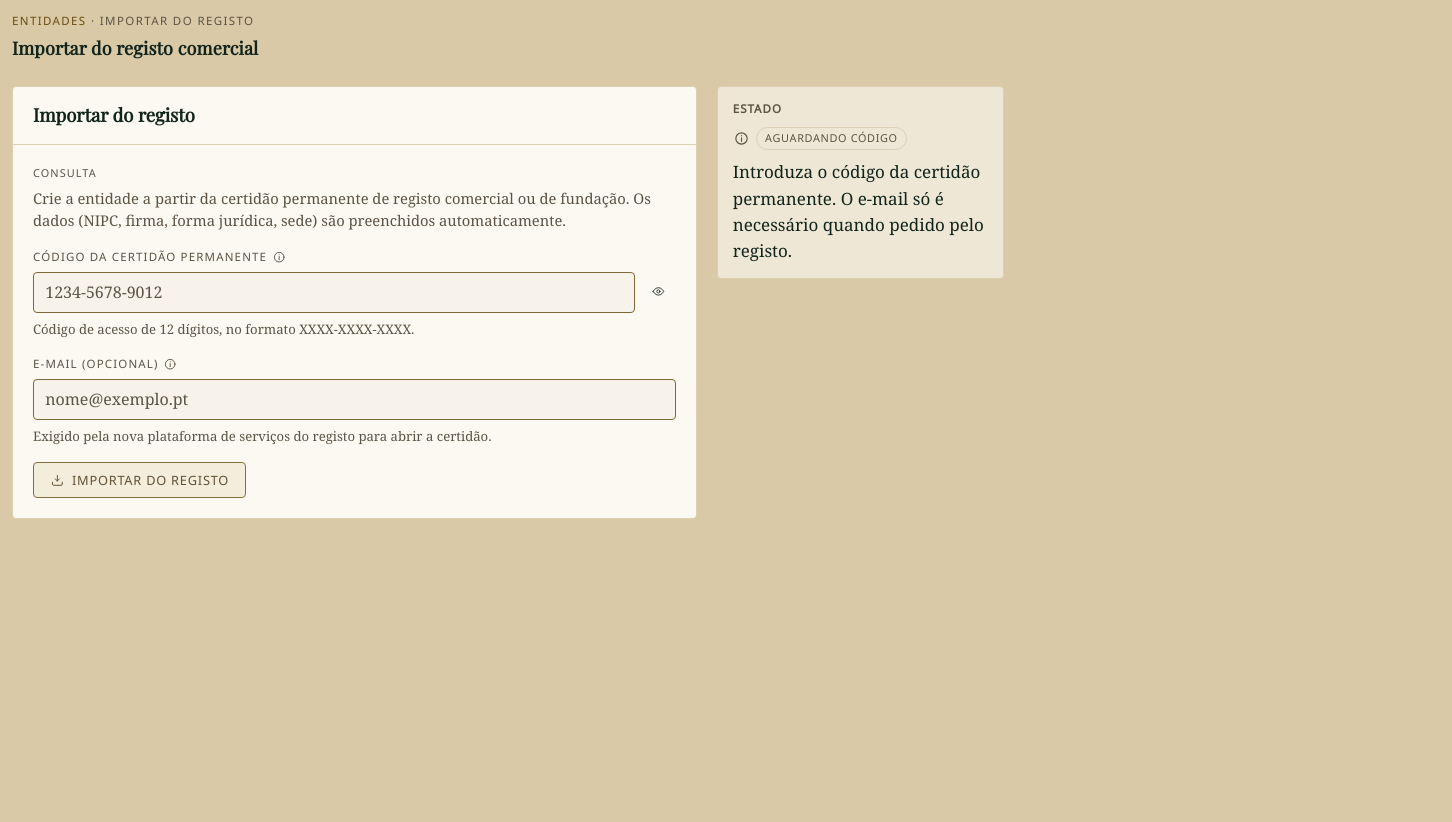
Scenario: ImportEntityPage › imports on a valid código, toasts and navigates to the new entity
Type "1234-5678-9012" into the password field labelled "Código da certidão permanente". click: (334, 292)
box: [33,272,635,313]
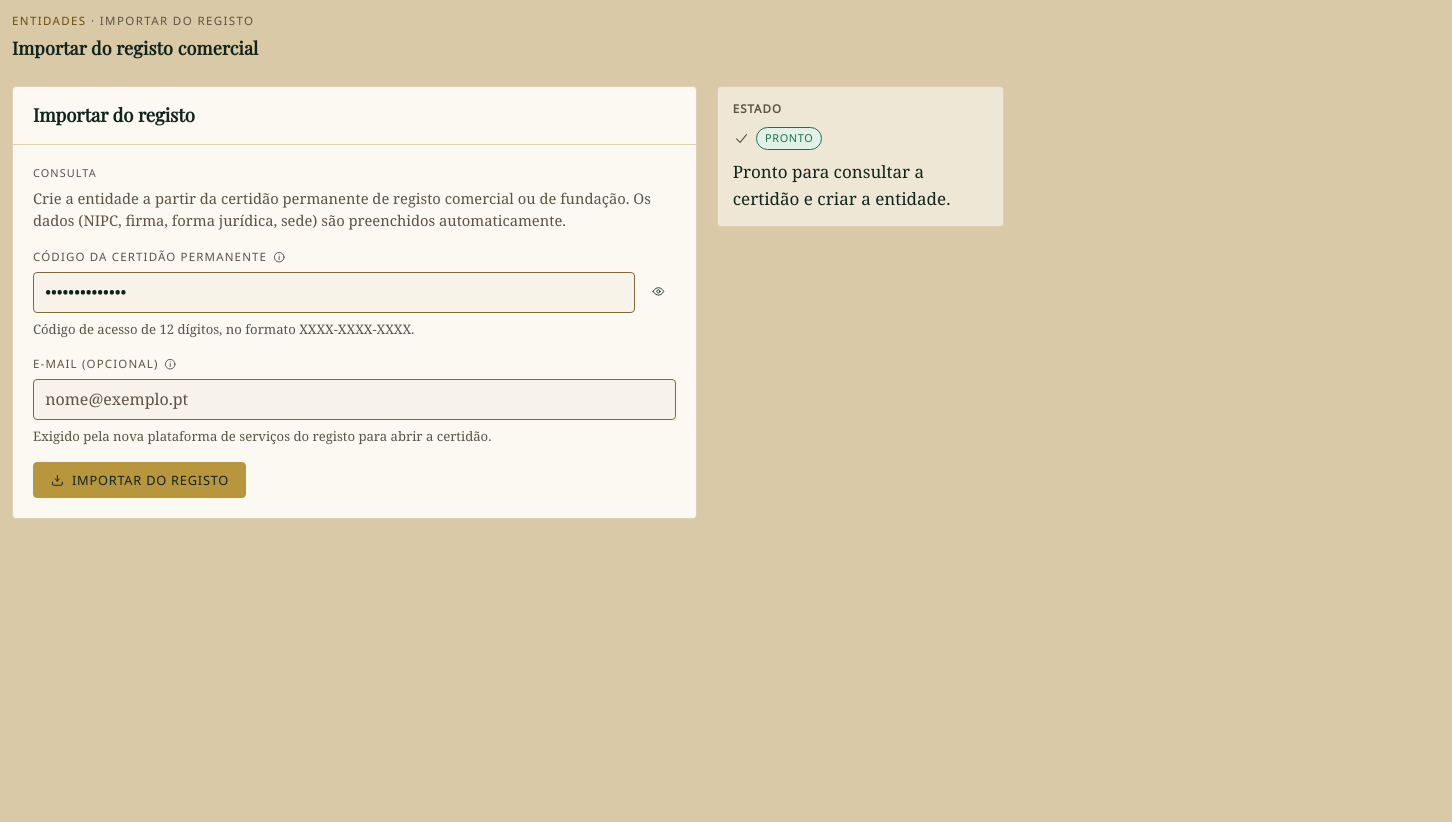
Type "amelia.marques@example.pt" into the field labelled "E-mail (opcional)". click: (354, 399)
box: [33,379,676,420]
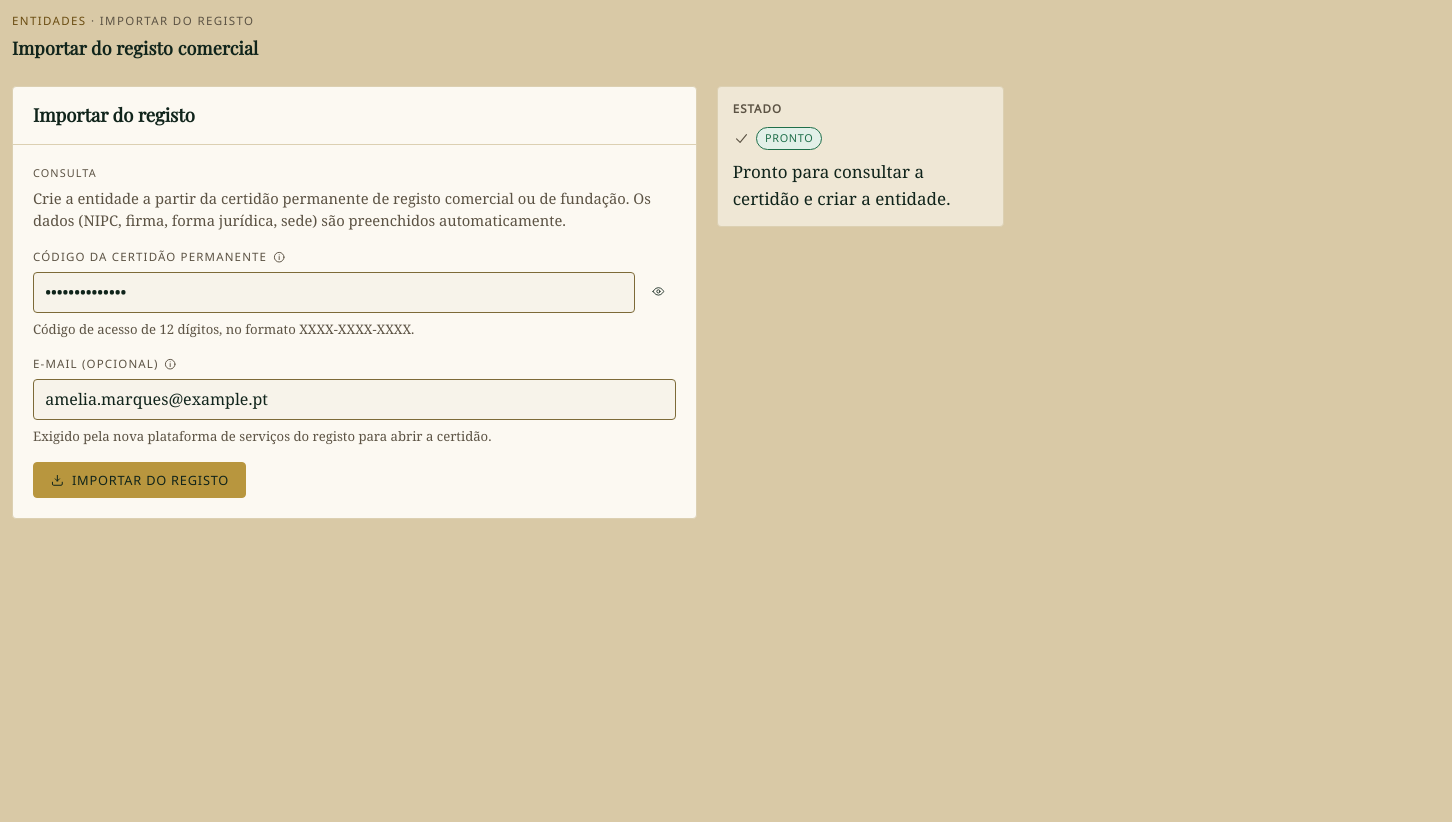
Click the button "Importar do registo". click: (140, 480)
box: [33,462,246,498]
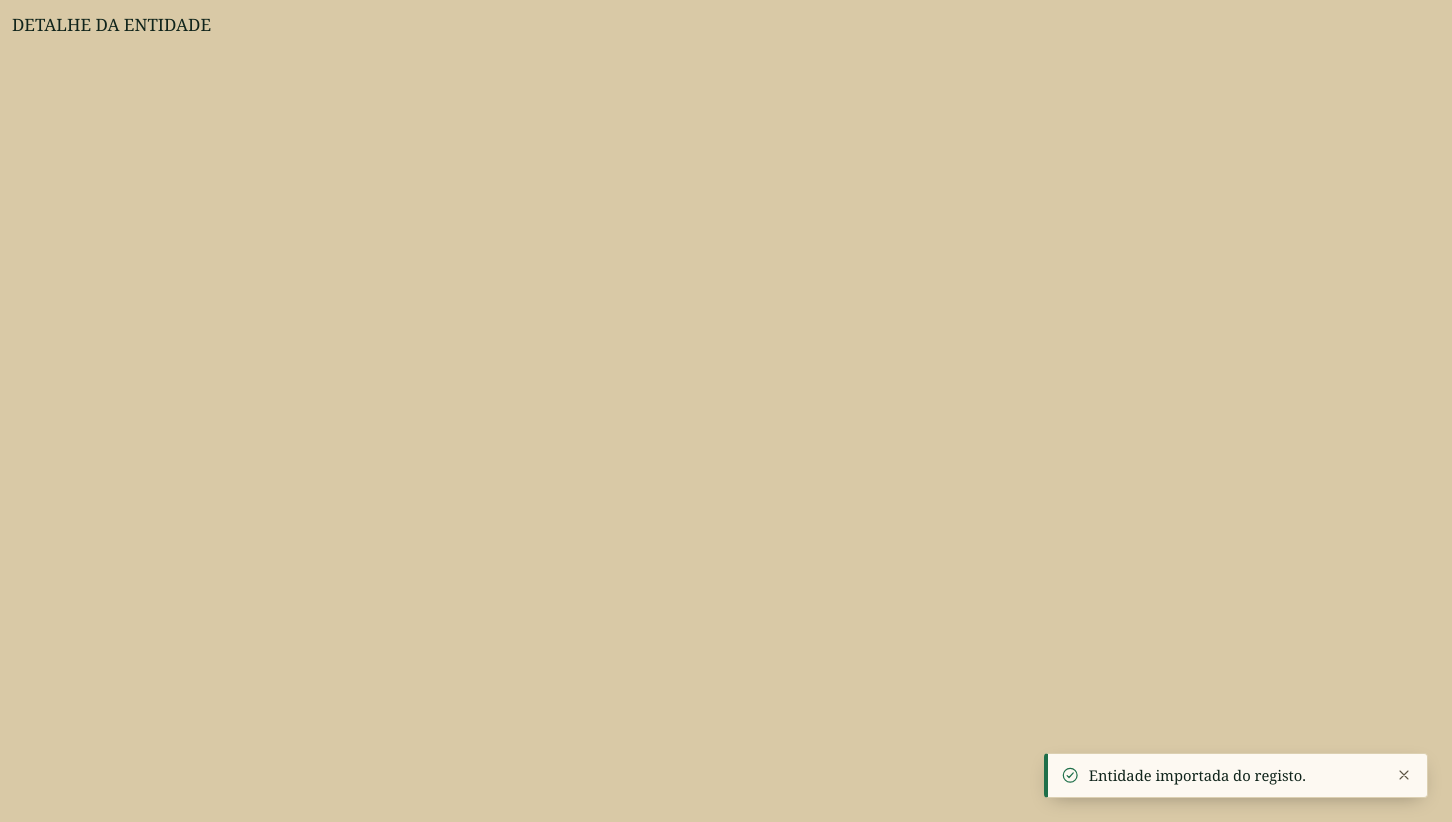
Check: the text "DETALHE DA ENTIDADE" is shown, box [12,13,211,36]
Check: the text "Entidade importada do registo." is shown, box [1089,765,1306,785]
